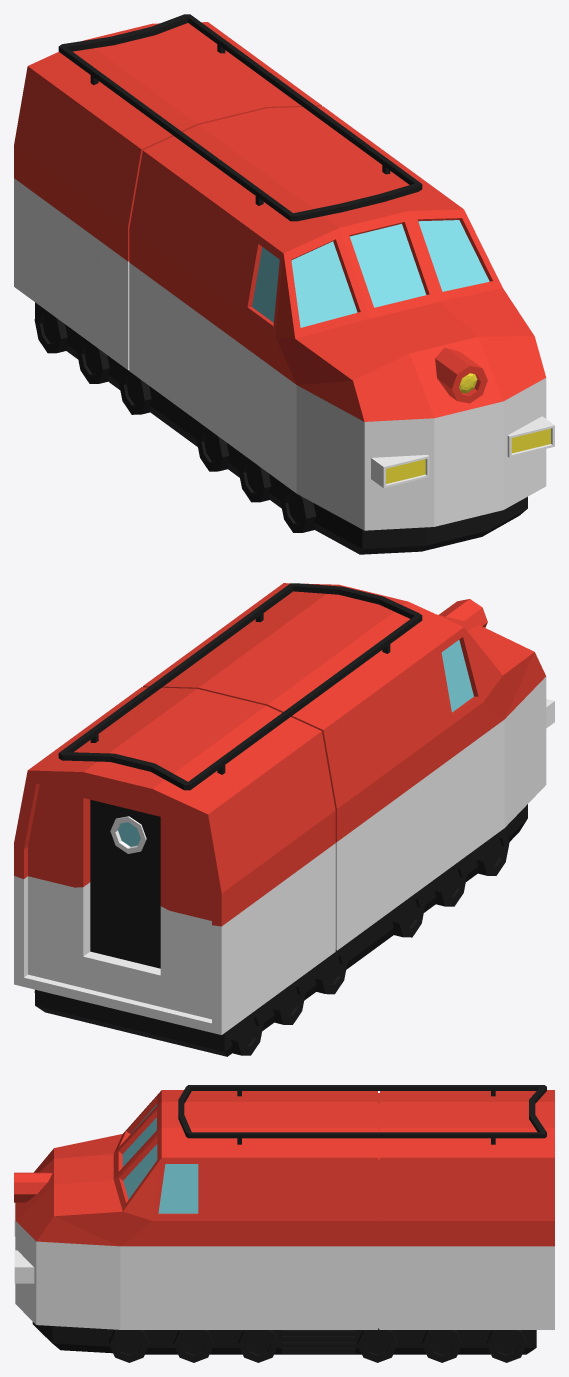
Rendered from jeremy_traincar.glb.
The picture shows the model from 3 angles, top to bottom: view 1: azimuth 30°, elevation 25°; view 2: azimuth 150°, elevation 25°; view 3: azimuth 270°, elevation 25°; orthographic projection. The views are drawn at different scales.
Parts seen in each view (by area): view 1: Train_Cube.024; view 2: Train_Cube.024; view 3: Train_Cube.024.
Part boxes in pixels (left/top/right/bottom): Train_Cube.024: left=14, top=14, right=554, bottom=554; Train_Cube.024: left=14, top=583, right=554, bottom=1056; Train_Cube.024: left=14, top=1085, right=554, bottom=1362.
Size of the model in its own units: 7.52 by 9.79 by 22.08.
